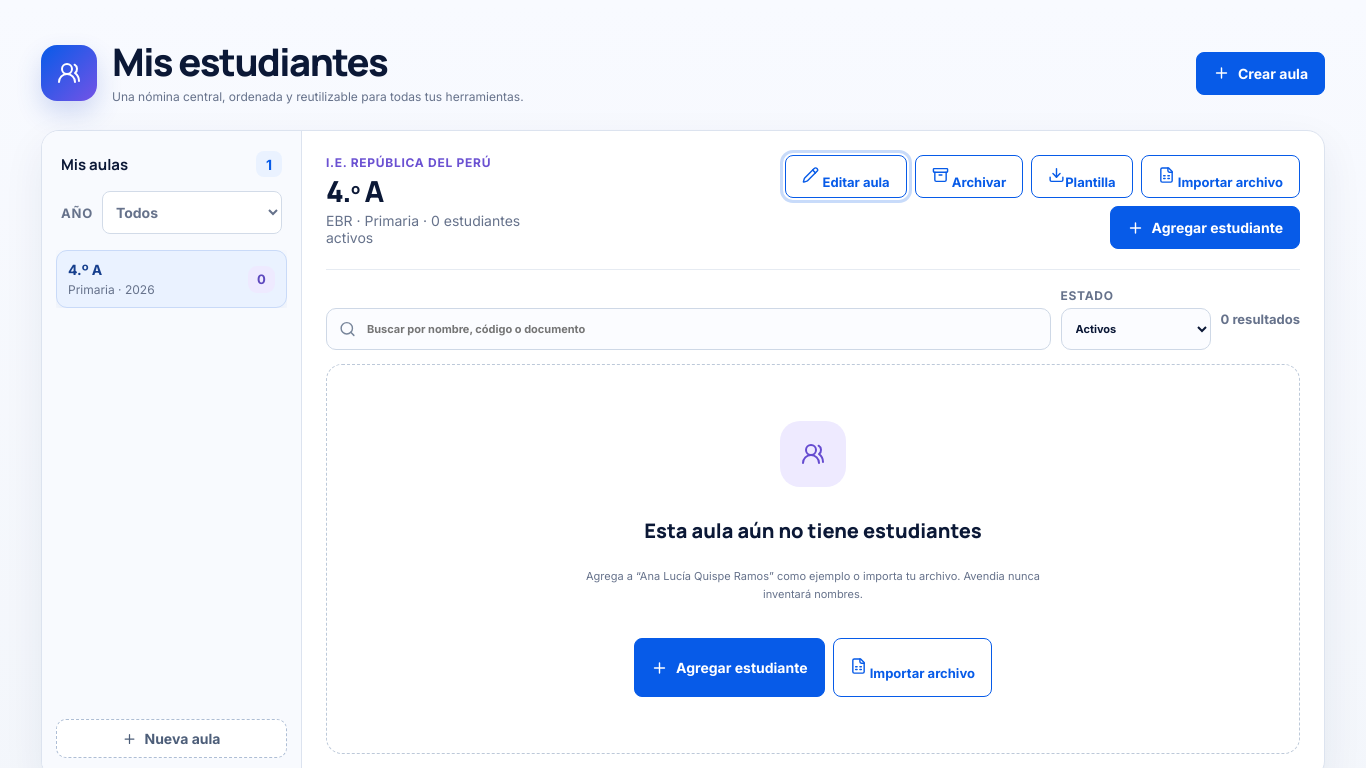
RosterPage › edits, archives and reactivates a classroom
Expected: the heading "4.º A" is shown, x1=326 y1=171 x2=383 y2=211
Click the button "Editar aula".
click(846, 176)  # box x1=786 y1=155 x2=907 y2=198
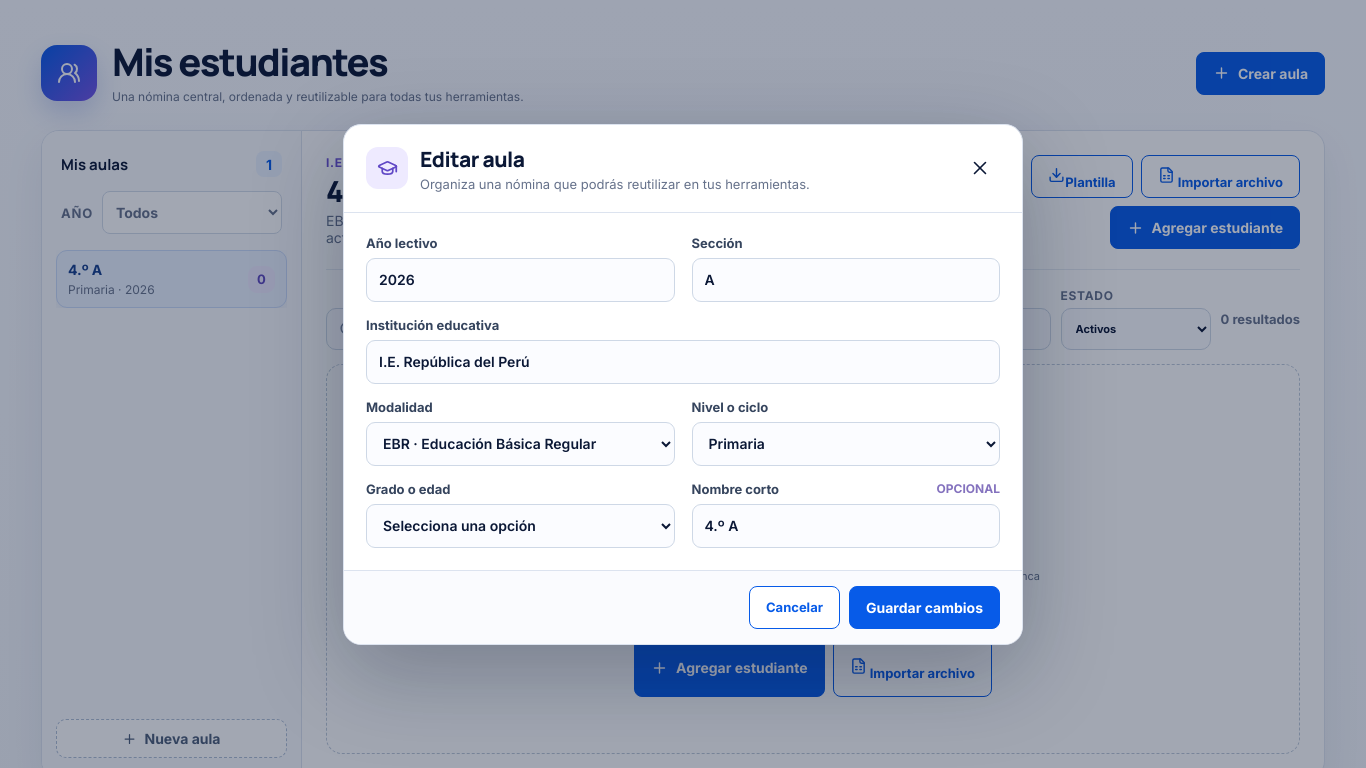
Now the dialog "Editar aula" is shown
Press Escape in the dialog, box x1=343 y1=124 x2=1023 y2=644
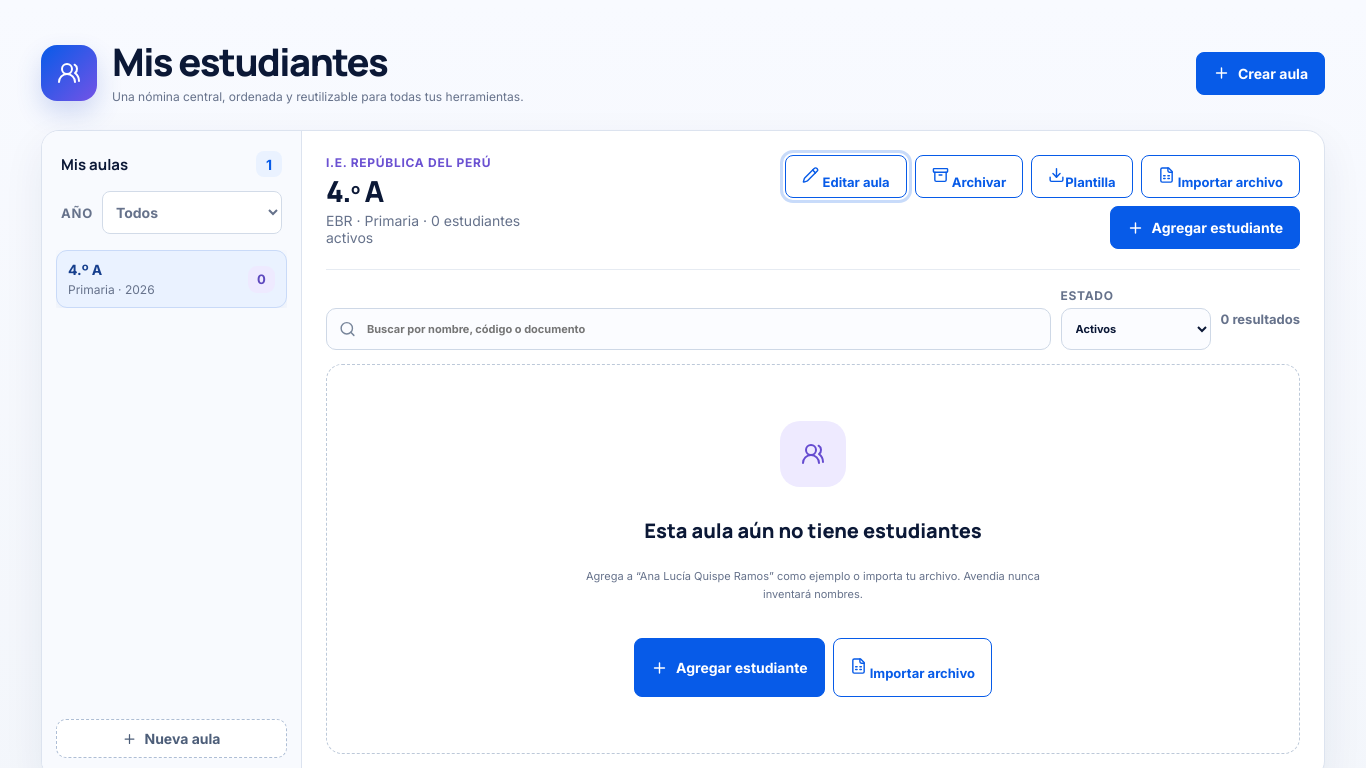
Click the button "Archivar".
click(969, 176)  # box x1=915 y1=155 x2=1023 y2=198
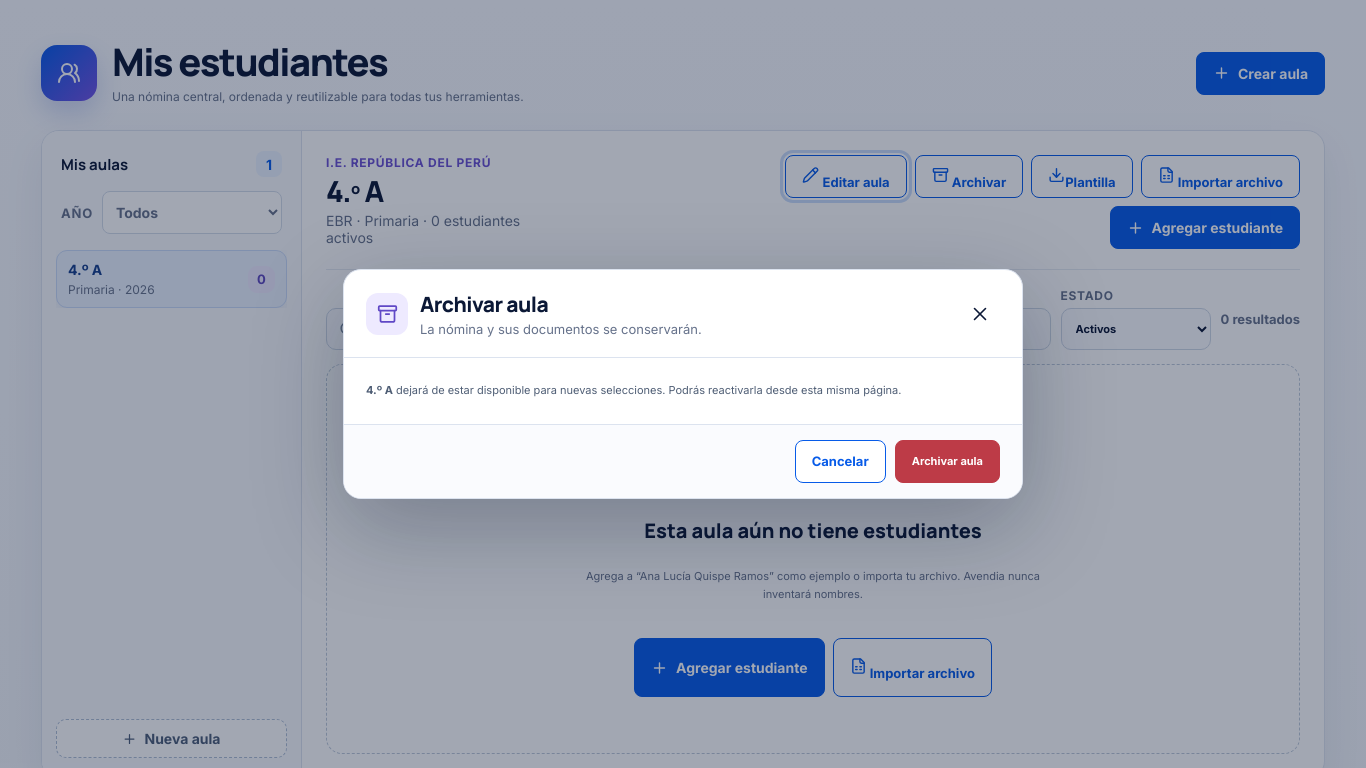
Click the button "Archivar aula".
click(947, 461)  # box x1=895 y1=440 x2=1000 y2=483
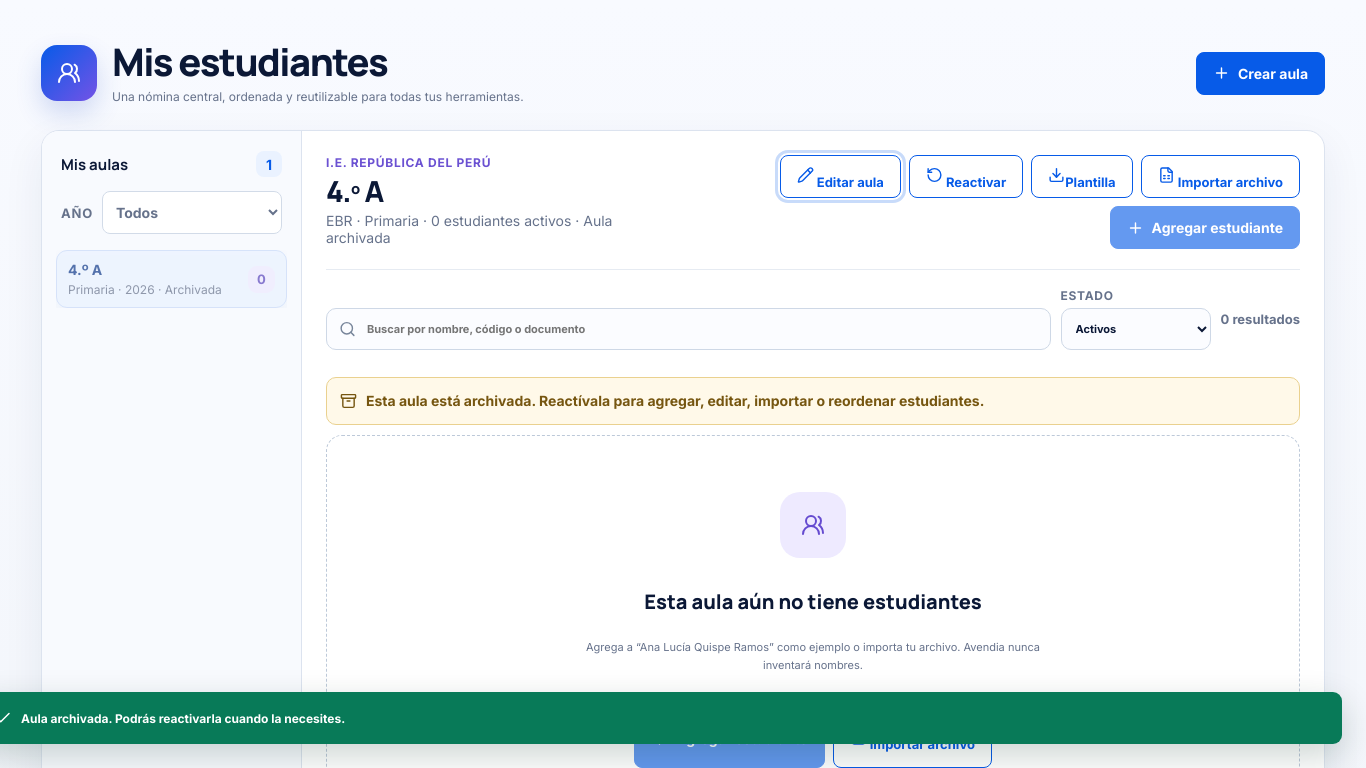
Now the button "Reactivar" is shown
Click the button "Reactivar".
click(966, 176)  # box x1=909 y1=155 x2=1023 y2=198
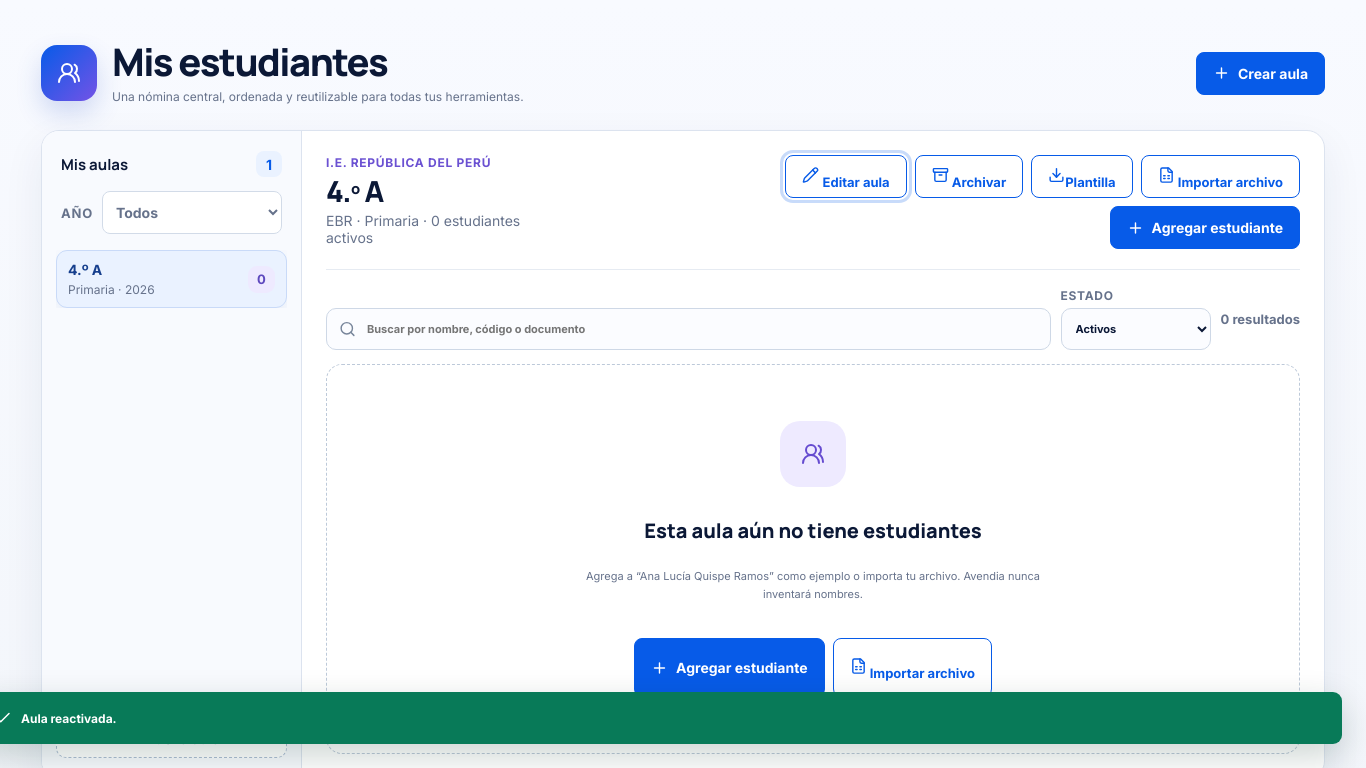
Now the button "Archivar" is shown, box x1=915 y1=155 x2=1023 y2=198
